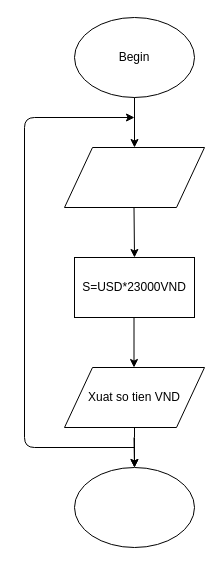
The diagram is 222 pixels wide and 565 high, and some of its shapes have lost their labels. Each missing label, with the centre of its shape:
End: the point at 134,507
Nhap so tien USD: the point at 134,177
